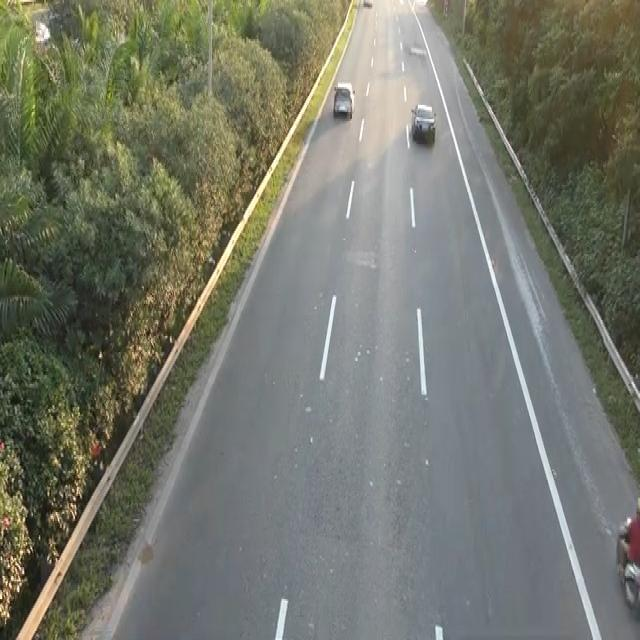bus: (408, 98, 439, 149), (331, 78, 355, 119)
minibus: (614, 516, 638, 612)
